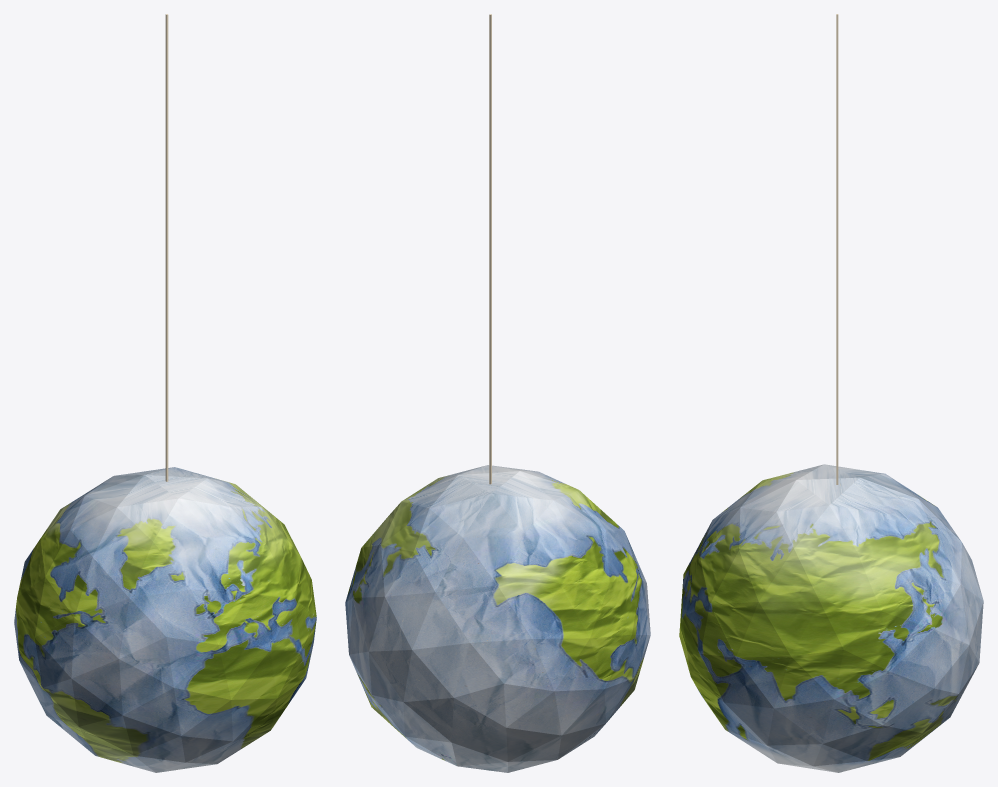
File: earth.obj
3 renders of one model, left to right at view 1: azimuth 30°, elevation 25°; view 2: azimuth 150°, elevation 25°; view 3: azimuth 270°, elevation 25°, orthographic.
Size of the model in its own units: 33.24 by 88.83 by 32.94.
Materials: 2 (1 with a texture image).
